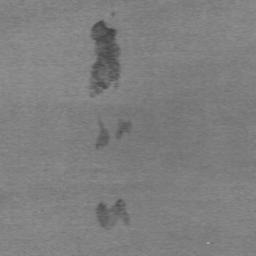Iron scale compression: (90, 20, 121, 98), (96, 199, 130, 229), (96, 119, 109, 148), (116, 120, 132, 140)
